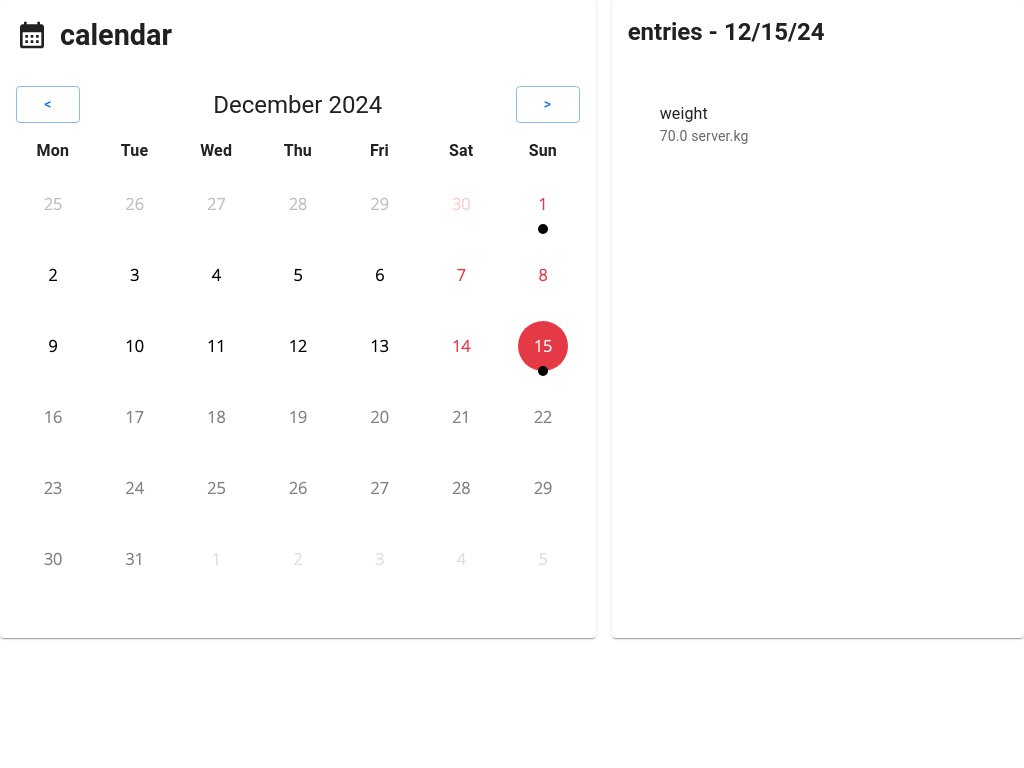
CalendarComponent › changing the month moves the selection along
The width and height of the screenshot is (1024, 768).
Expected: the text "70.0 server.kg" is shown, [660,128,748,144]
// Another month shows its first day, not today without its entries
Click the button "<" at (48, 105), box [16,86,80,123]
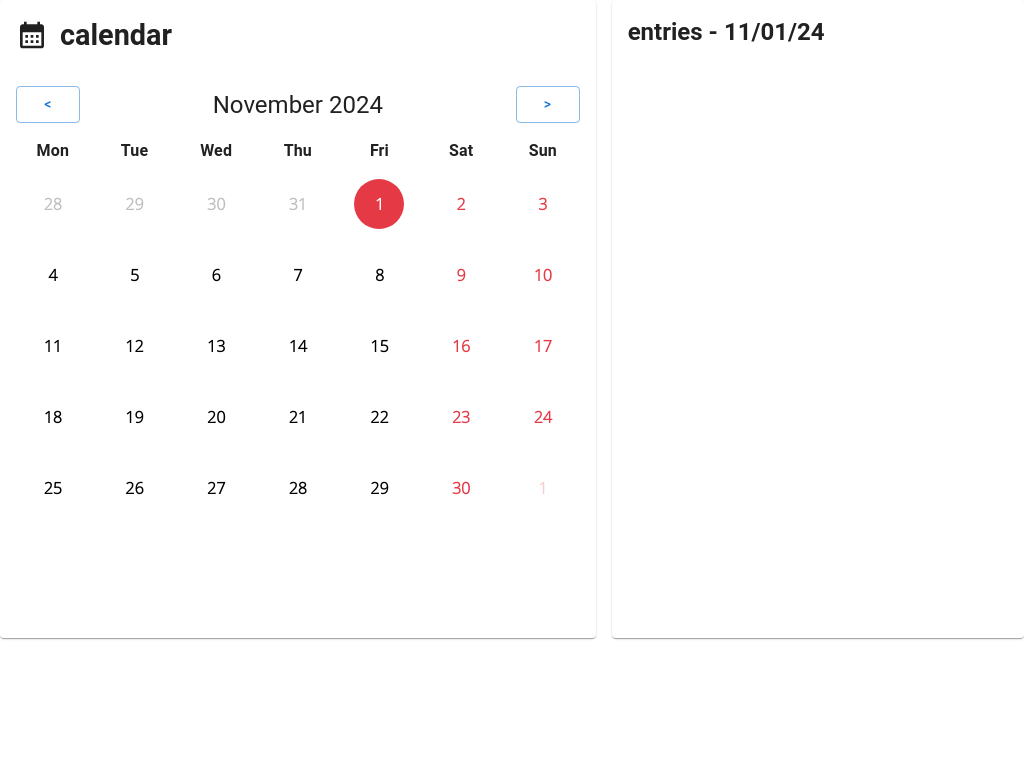
Result: the text "70.0 server.kg" is gone
// Back in the current month, today is selected again
Click the button ">" at (548, 105), box [516,86,580,123]
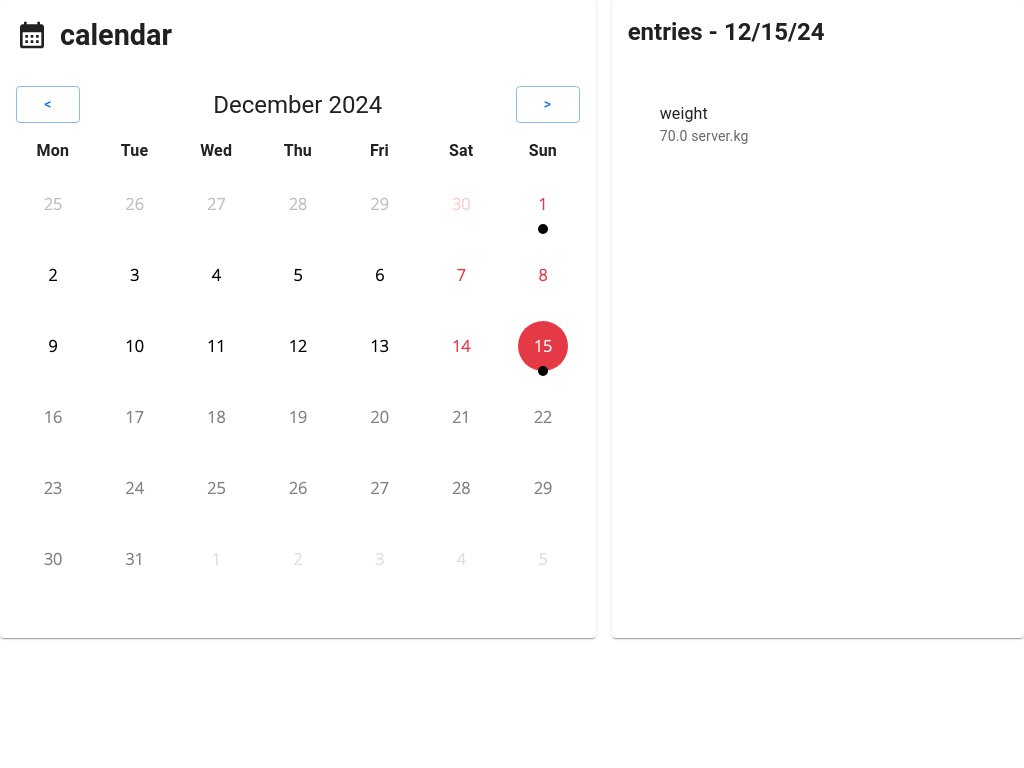
Result: the text "70.0 server.kg" is shown at [660,128,748,144]
